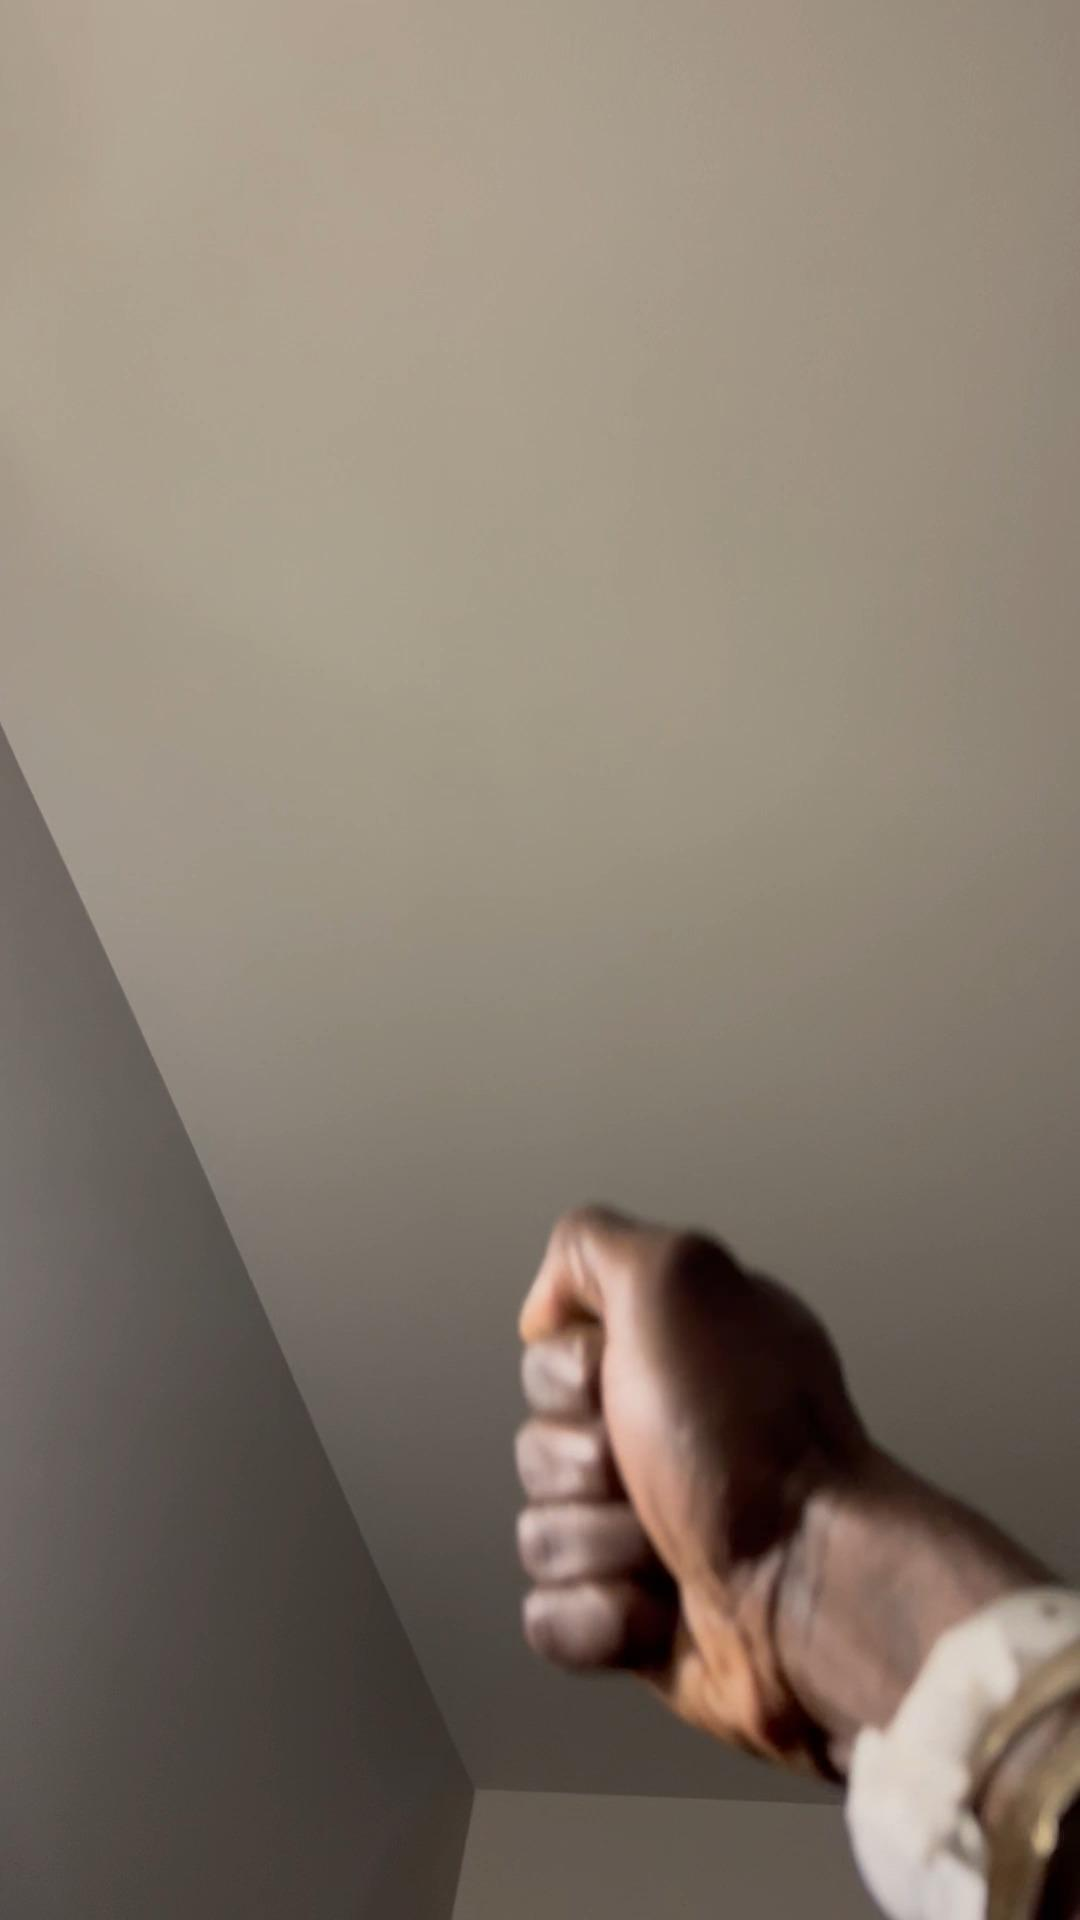Rock: (510, 1200, 878, 1770)
